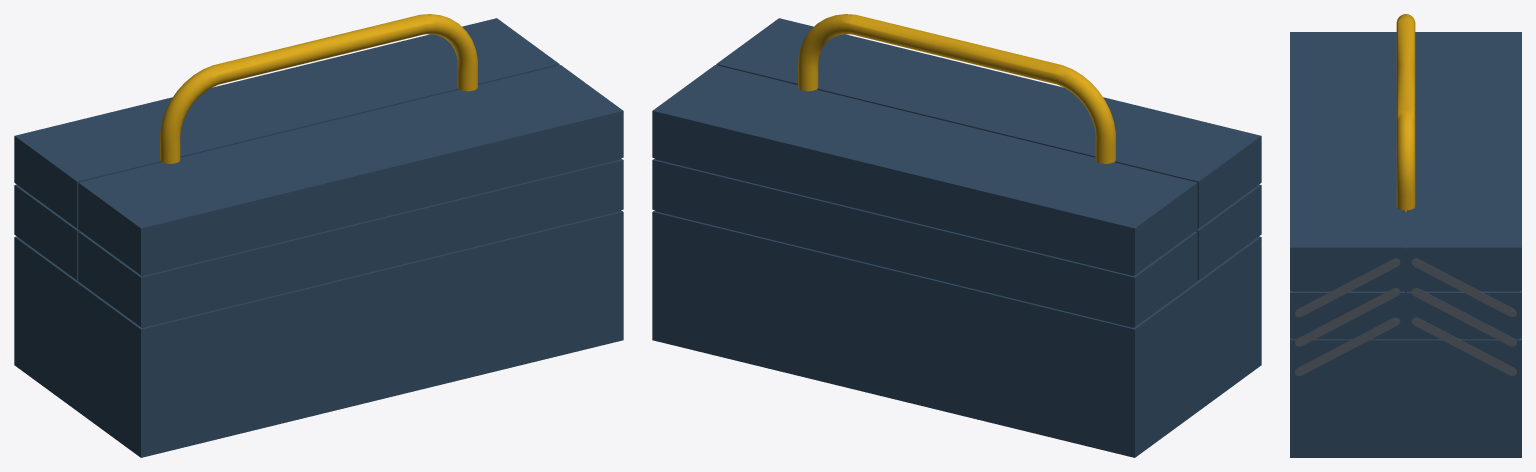
Rendered from toolbox.fbx.
The picture shows the model from 3 angles, left to right: view 1: azimuth 30°, elevation 25°; view 2: azimuth 150°, elevation 25°; view 3: azimuth 270°, elevation 25°; orthographic projection. The views are drawn at different scales.
Visible parts, largest first — view 1: Cube, Cylinder.006; view 2: Cube, Cylinder.006; view 3: Cube, Cylinder.006, Cube.002, Cube.003, Cube.001.
Boxes of the visible parts, box(x1,y1,x2,y2) form: Cube: box(14, 18, 623, 457); Cylinder.006: box(160, 14, 477, 163); Cube: box(652, 18, 1261, 457); Cylinder.006: box(798, 14, 1115, 163); Cube: box(1290, 32, 1521, 457); Cylinder.006: box(1396, 14, 1415, 211); Cube.002: box(1295, 288, 1516, 346); Cube.003: box(1295, 258, 1516, 316); Cube.001: box(1295, 317, 1516, 375).
Size of the model in its own units: 110 by 68.02 by 50.
